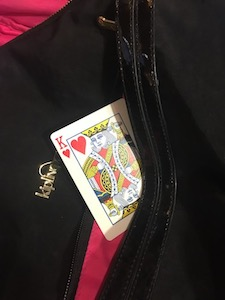KingOfHearts: (48, 97, 153, 245)
